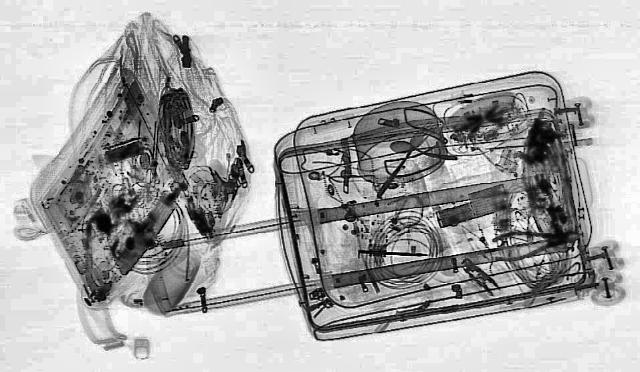Pliers: (482, 221, 588, 263)
